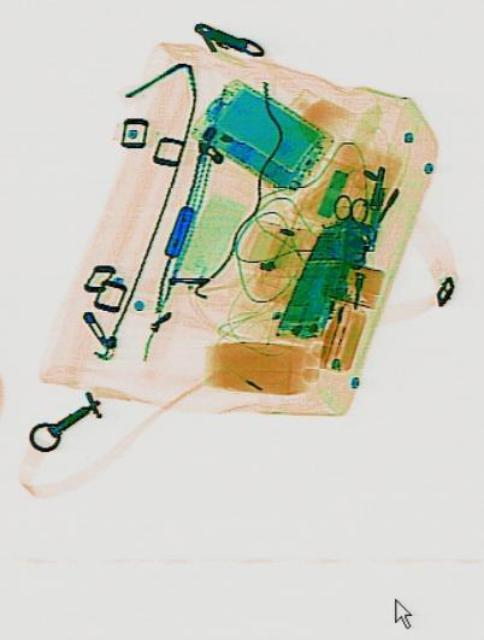Scissors: (322, 192, 367, 276)
